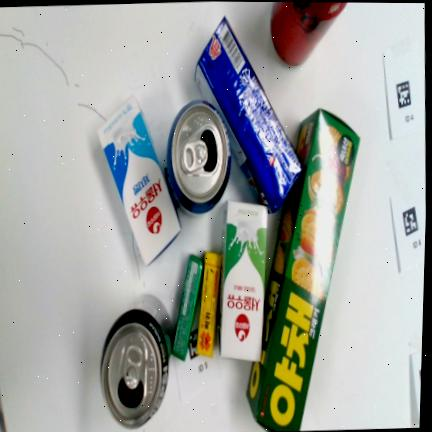can_pepsi: (167, 101, 231, 213)
can_pepsi_zero: (101, 295, 171, 428)
cracker_ace: (195, 16, 301, 212)
cracker_vege: (247, 109, 360, 431)
gum_green: (172, 255, 203, 361)
gum_yellow: (197, 252, 221, 356)
milk_blue: (98, 95, 180, 265)
milk_green: (219, 200, 267, 361)
